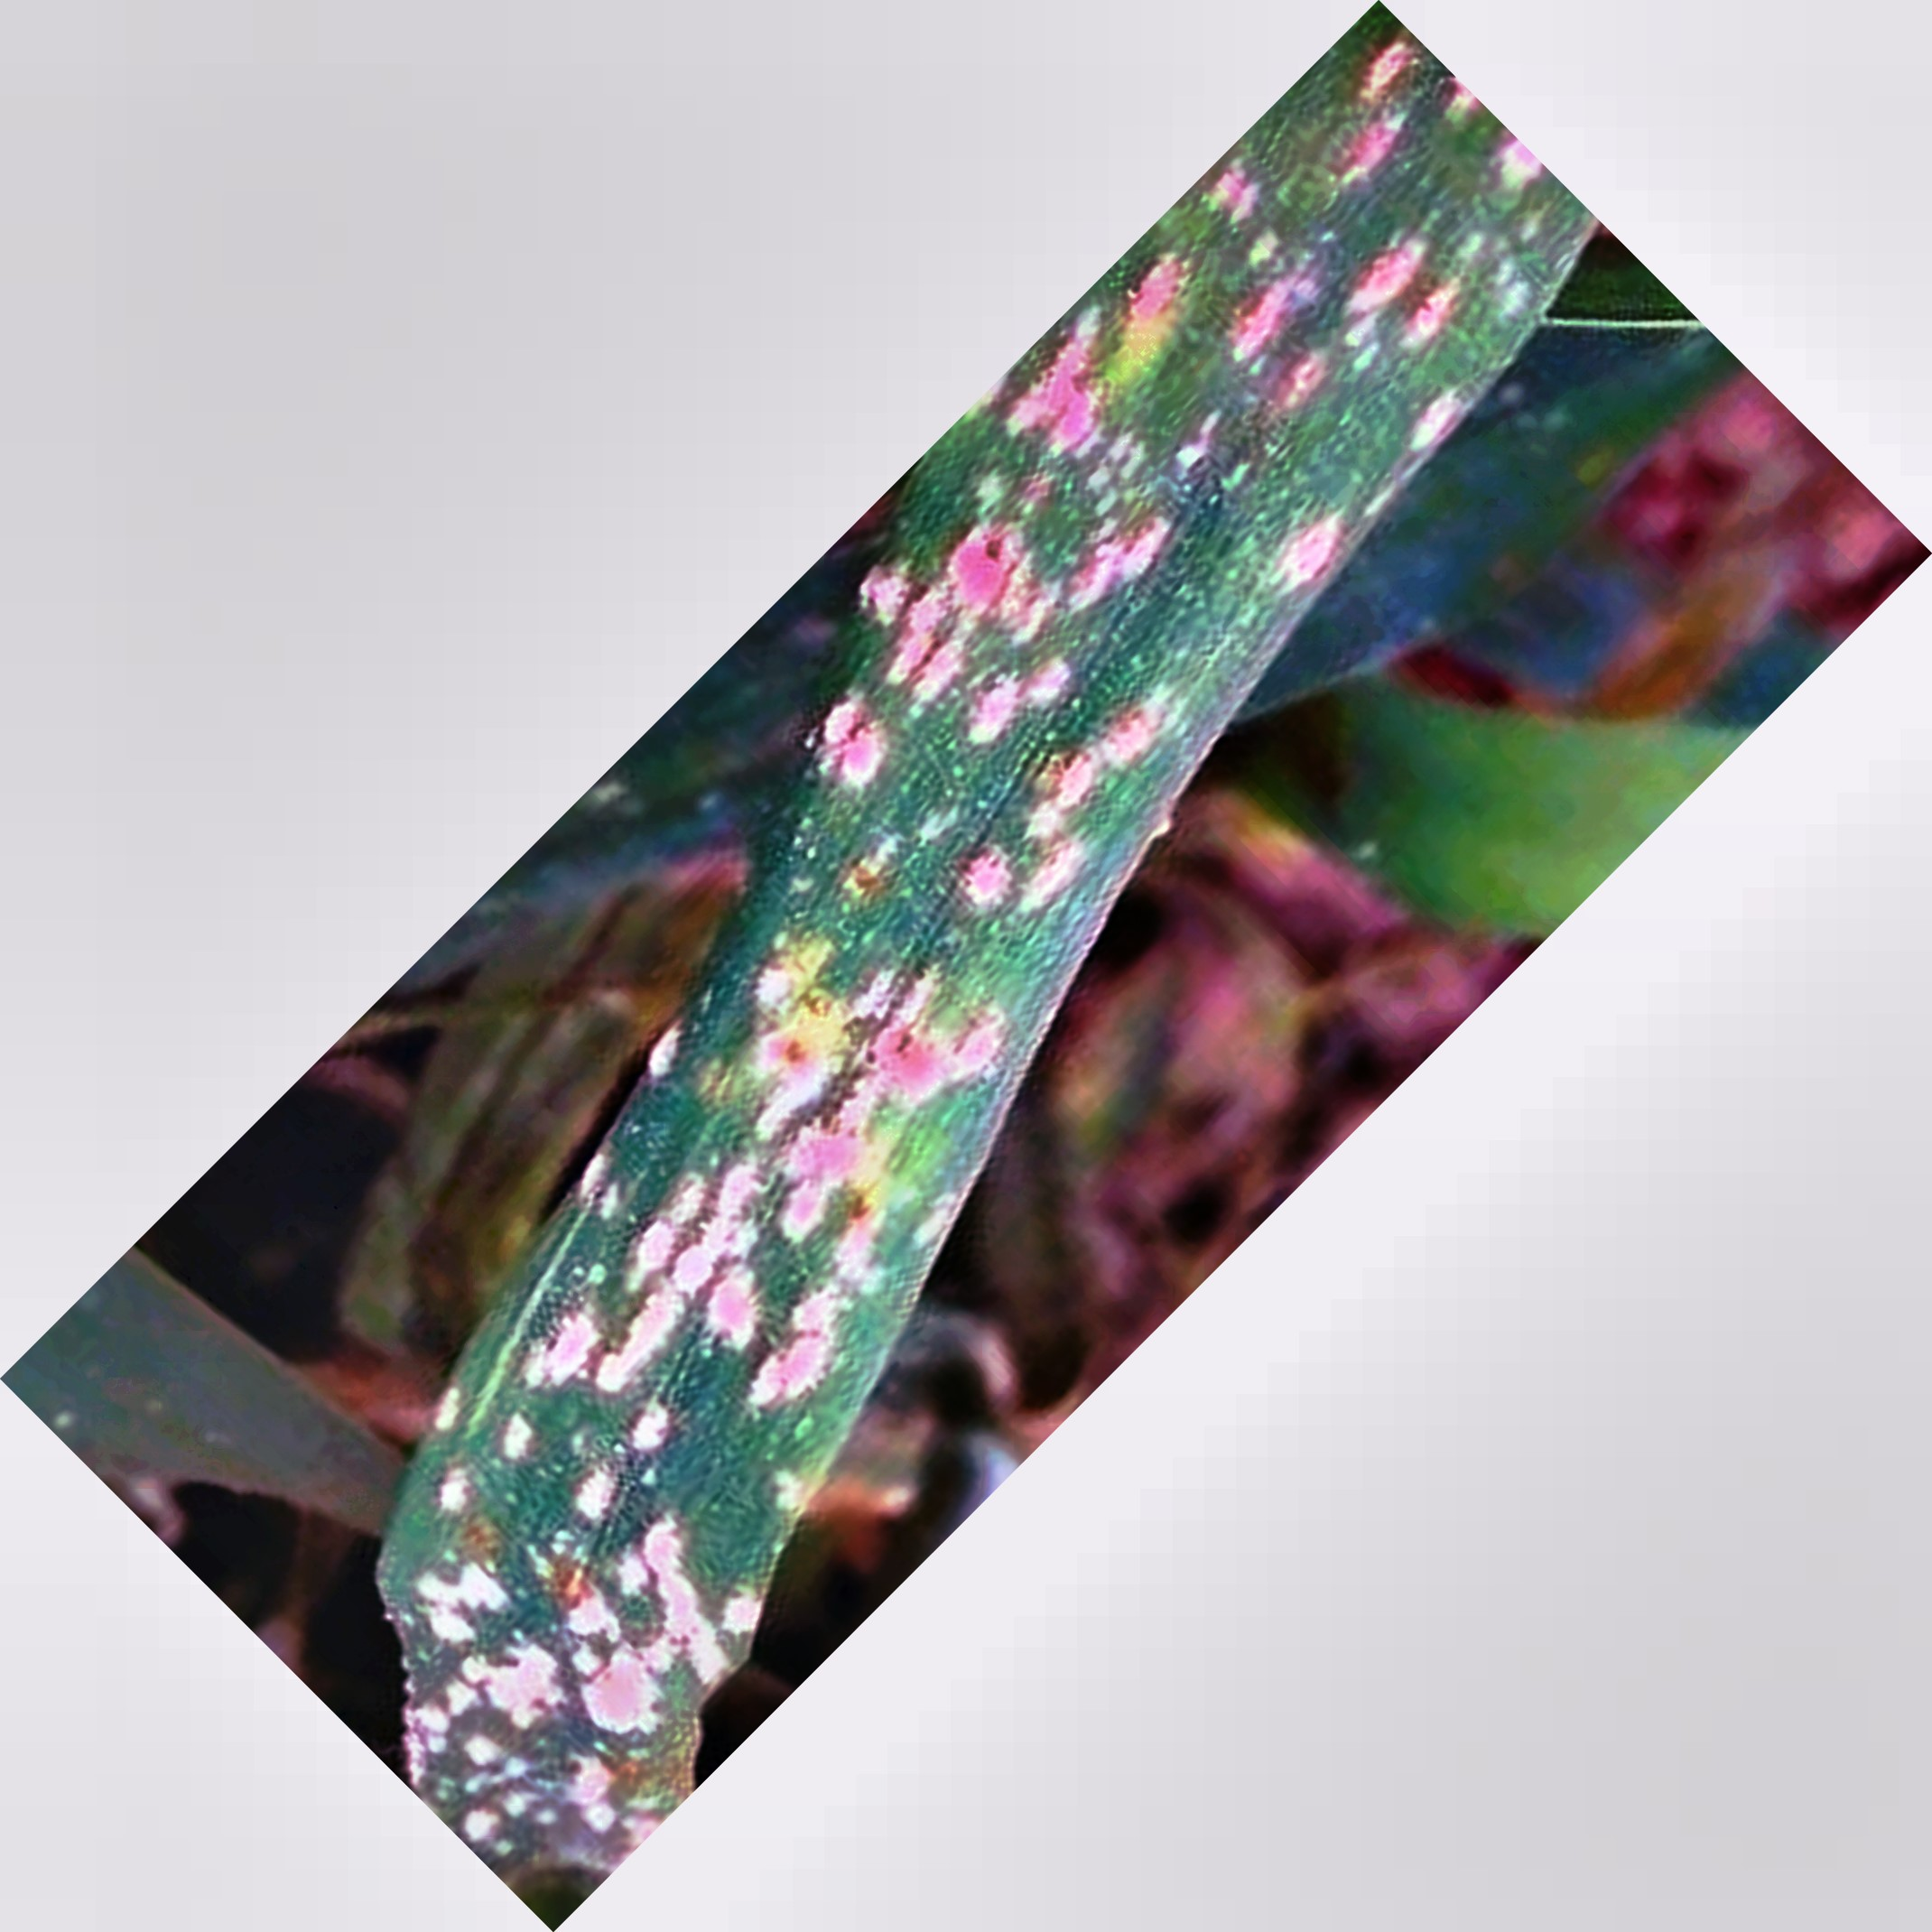Powdery Mildew: (465, 163, 1410, 1780)
